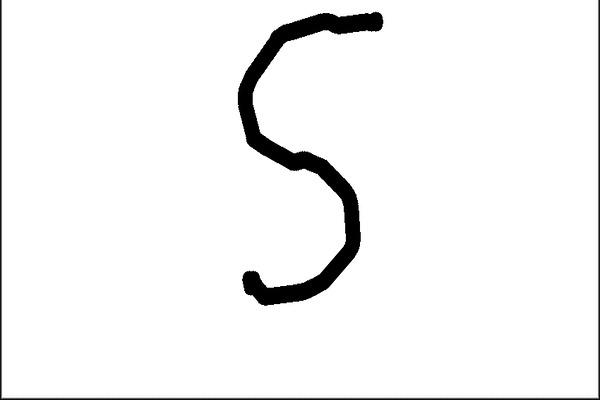S: (229, 9, 387, 308)
